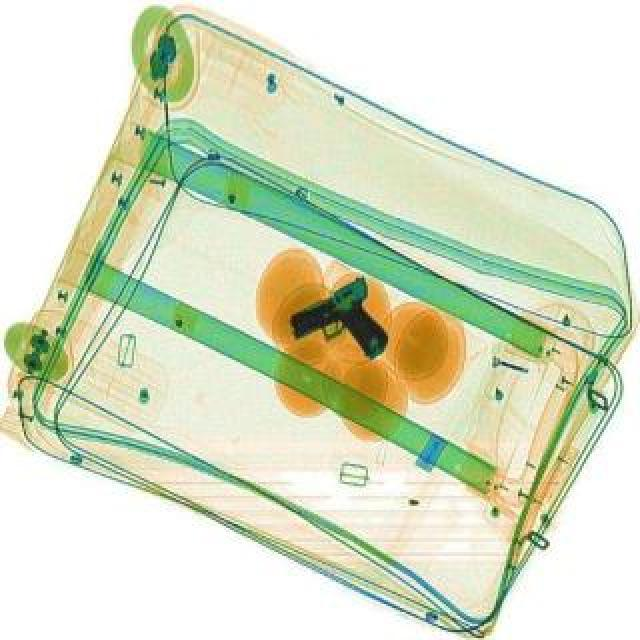gun: (278, 272, 402, 382)
